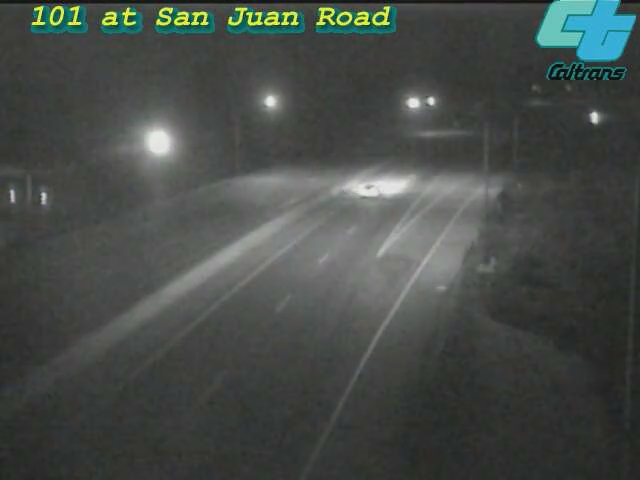vehicle: (330, 151, 410, 231), (570, 93, 620, 143)
